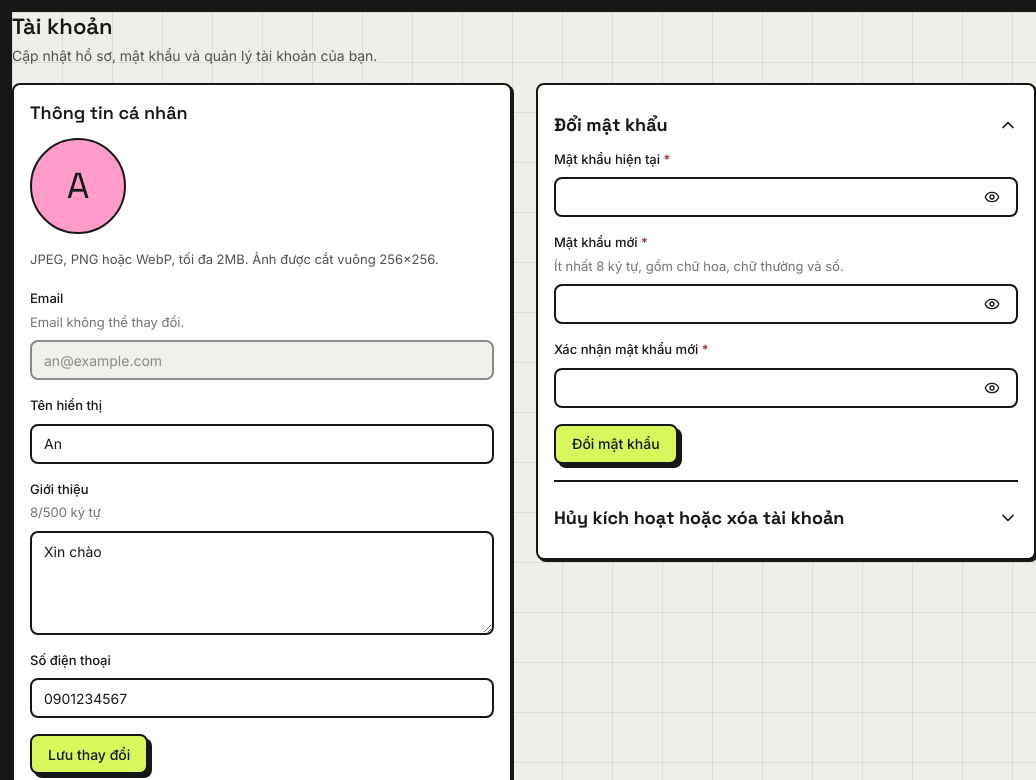
Scenario: EditProfileTab account sections › holds the password form and the coming-soon deactivate / delete options
Click the heading "Hủy kích hoạt hoặc xóa tài khoản". click: x=786, y=517
box: [554,506,1018,529]
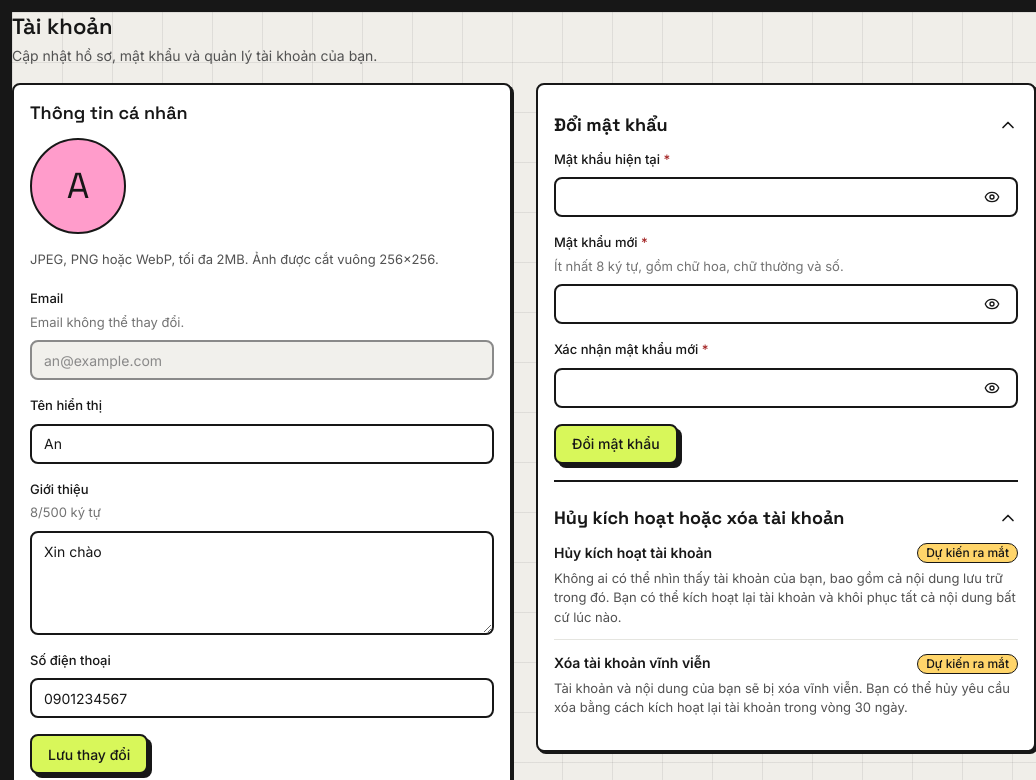
Now the heading "Hủy kích hoạt tài khoản" is shown, box [554,542,712,565]
Now the heading "Xóa tài khoản vĩnh viễn" is shown, box [554,652,711,675]
Now the text "Dự kiến ra mắt" is shown 2 times, box [917,543,1018,563]; [917,654,1018,674]
